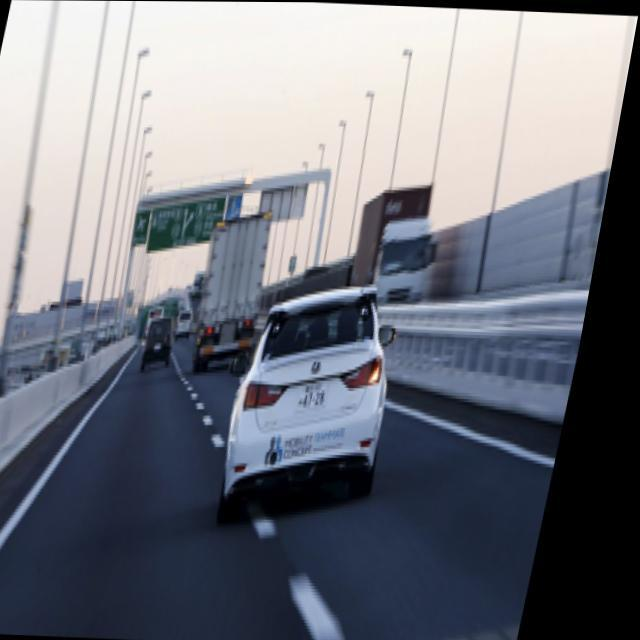license_plate: (300, 378, 346, 413)
